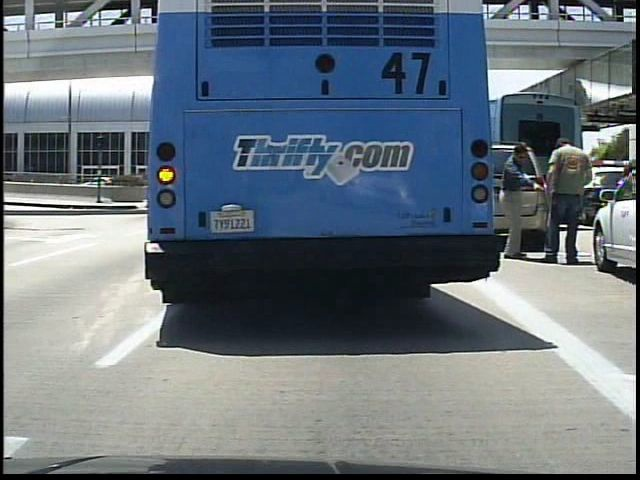person: (542, 128, 589, 274), (500, 136, 541, 265)
